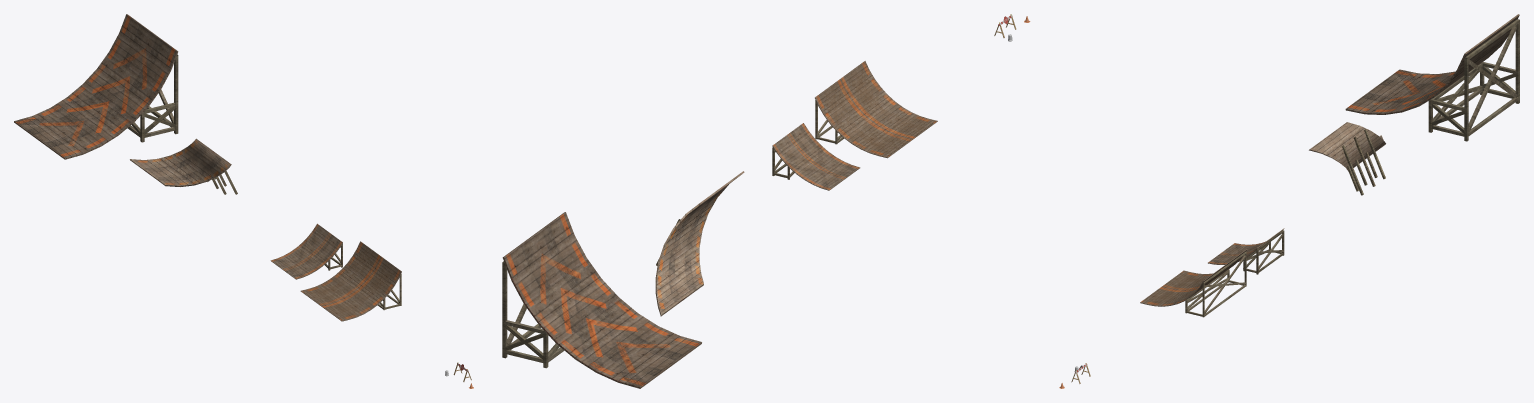
The model's file is Tricks_assets.fbx.
The picture shows the model from 3 angles, left to right: view 1: azimuth 30°, elevation 25°; view 2: azimuth 150°, elevation 25°; view 3: azimuth 330°, elevation 25°; orthographic projection. The views are drawn at different scales.
Visible parts, largest first — view 1: Big_stunt, Stunt_big, Spiral_stunt, Stunt_sm; view 2: Big_stunt, Stunt_big, Spiral_stunt, Stunt_sm; view 3: Big_stunt, Stunt_big, Spiral_stunt, Stunt_sm.
Part boxes in pixels (box(x1,y1,x2,y2)): Big_stunt: box(14, 14, 178, 159); Stunt_big: box(300, 241, 401, 321); Spiral_stunt: box(130, 138, 237, 194); Stunt_sm: box(270, 223, 342, 279); Big_stunt: box(502, 212, 701, 388); Stunt_big: box(815, 61, 937, 158); Spiral_stunt: box(655, 171, 744, 316); Stunt_sm: box(772, 123, 860, 190); Big_stunt: box(1345, 14, 1519, 141); Stunt_big: box(1140, 249, 1247, 317); Spiral_stunt: box(1309, 122, 1385, 195); Stunt_sm: box(1208, 228, 1284, 274).
Size of the model in its own units: 25.85 by 18.05 by 153.
